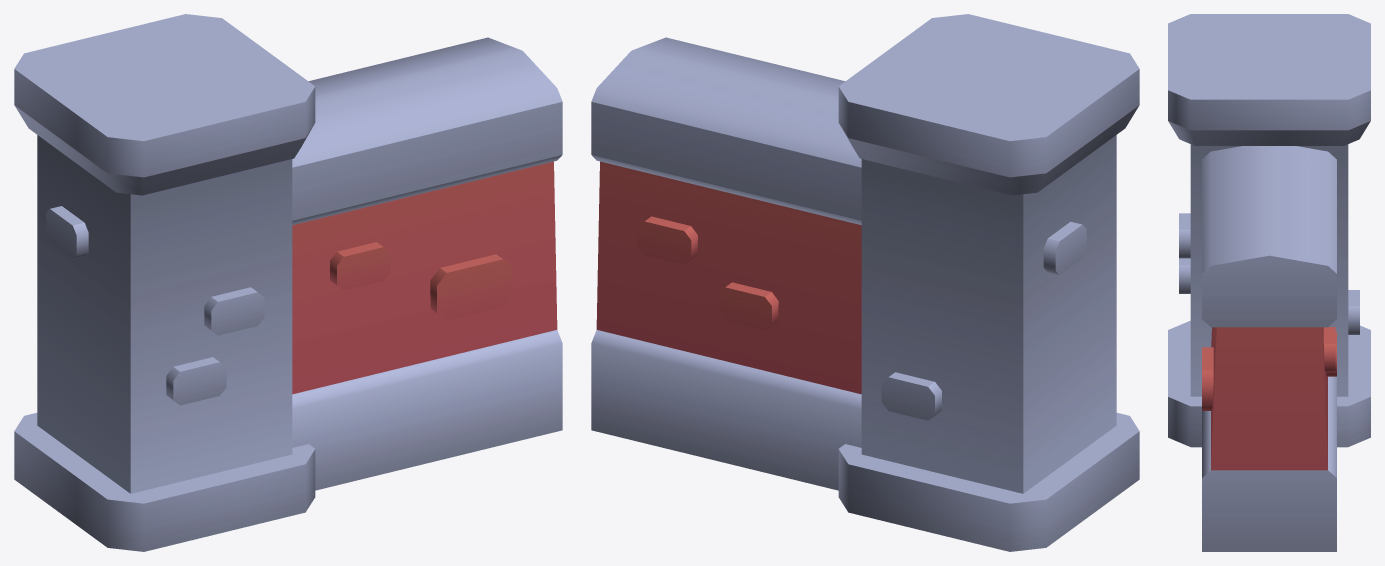
Rendered from brick-wall-end.glb.
The picture shows the model from 3 angles, left to right: view 1: azimuth 30°, elevation 25°; view 2: azimuth 150°, elevation 25°; view 3: azimuth 270°, elevation 25°; orthographic projection. The views are drawn at different scales.
Parts seen in each view (by area): view 1: brick-wall-end; view 2: brick-wall-end; view 3: brick-wall-end.
Boxes of the visible parts, x1,y1,x2,y2 form: brick-wall-end: (14,14,562,551); brick-wall-end: (591,14,1139,551); brick-wall-end: (1168,14,1370,551).
Size of the model in its own units: 1 by 0.85 by 0.45.
1 material, 1 textured.
